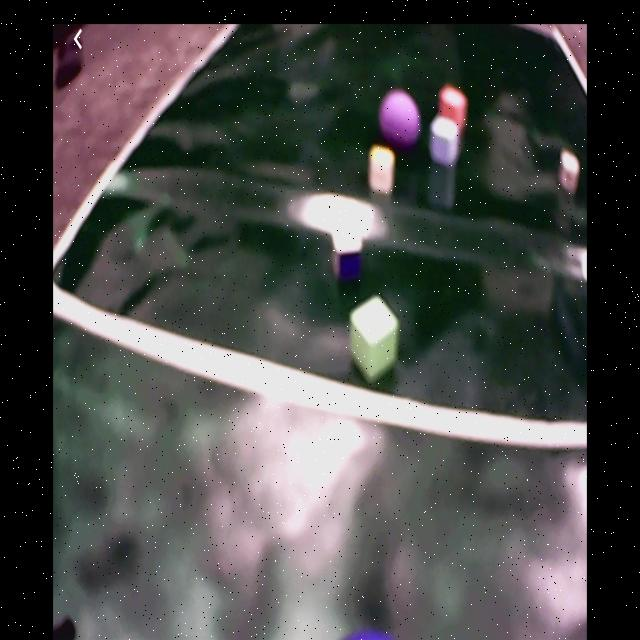ball: (380, 92, 421, 147), (343, 623, 398, 640)
